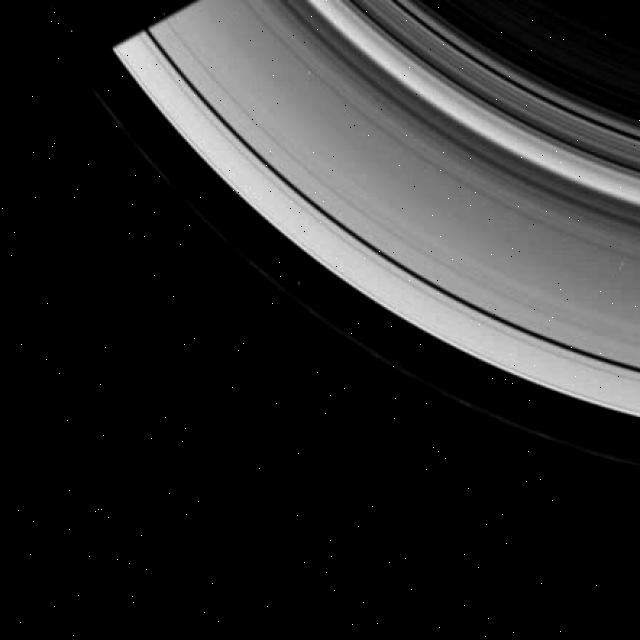Saturn: (79, 0, 640, 480)
